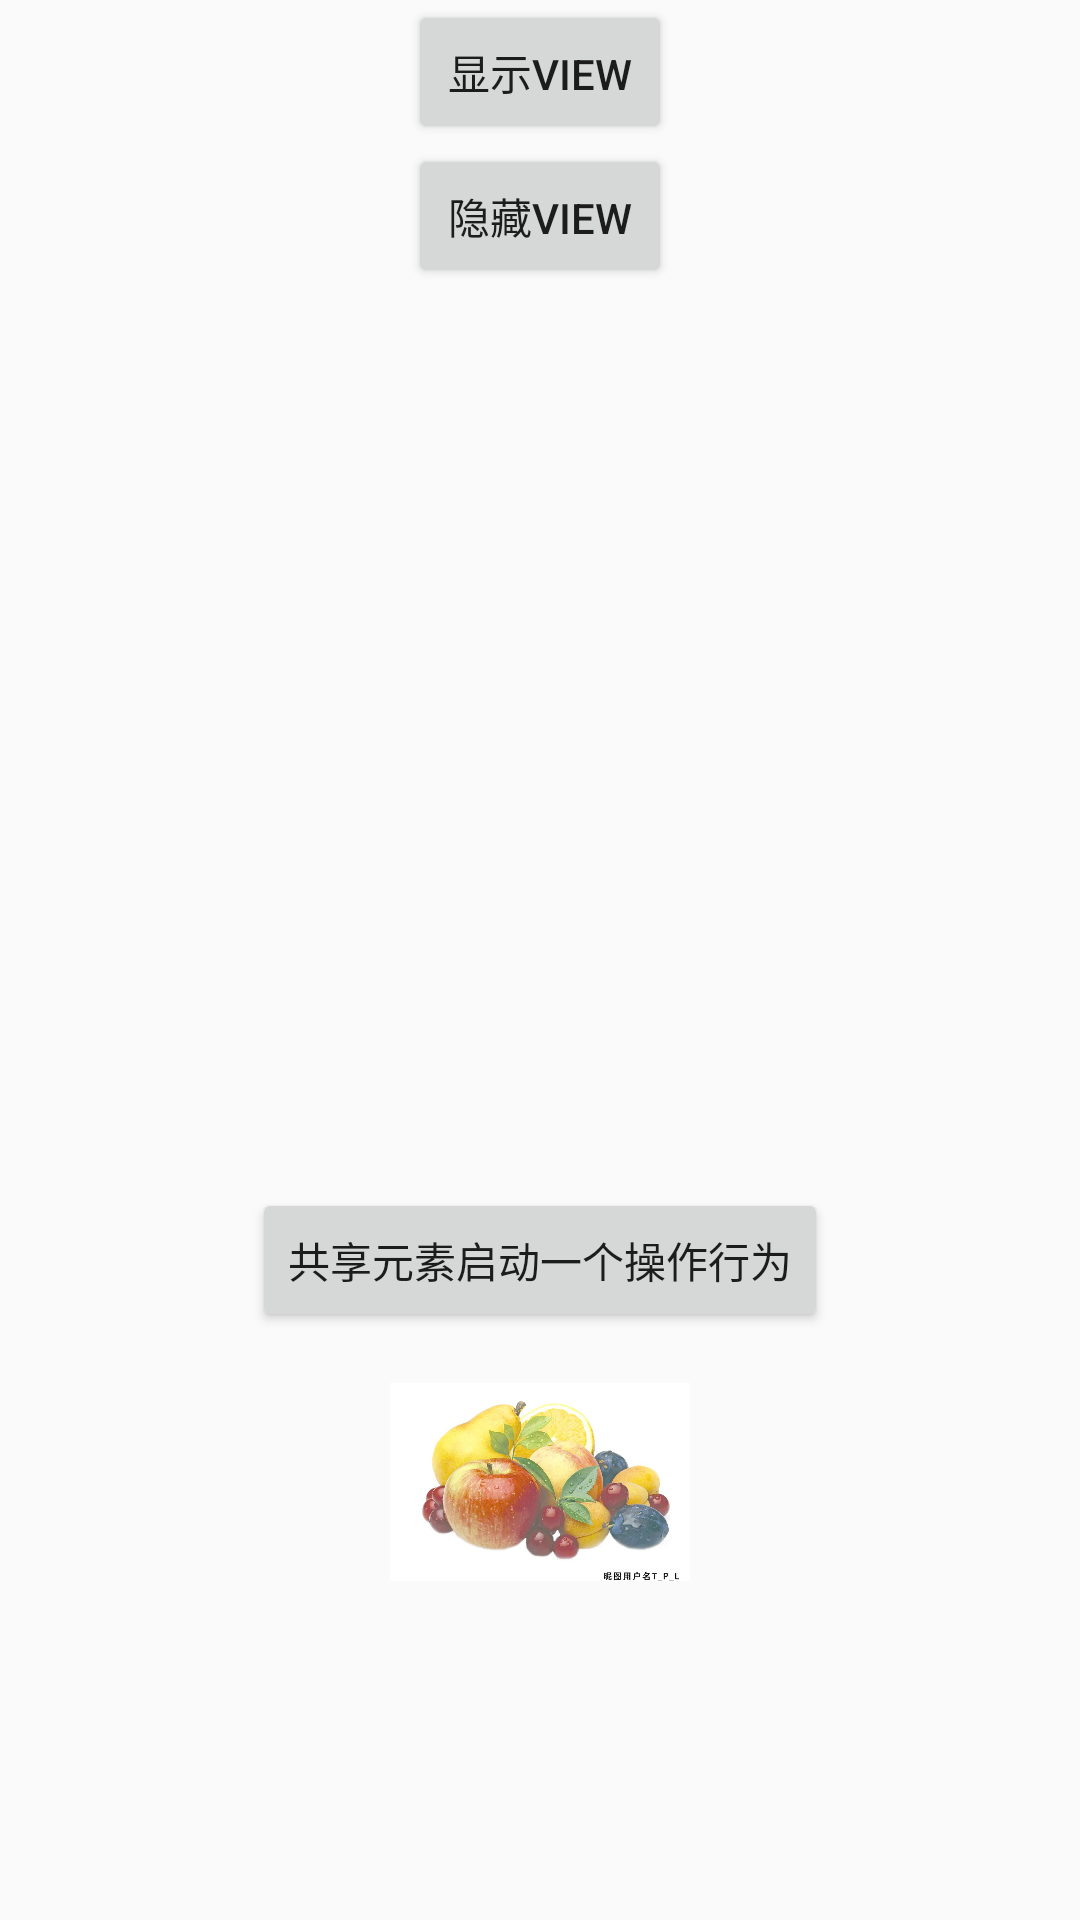

Icons on this 1080 × 1920 Android screen, each with its box as (left=x1, top=y1, right=x2, bottom=y2):
food: (left=422, top=1401, right=679, bottom=1581)
